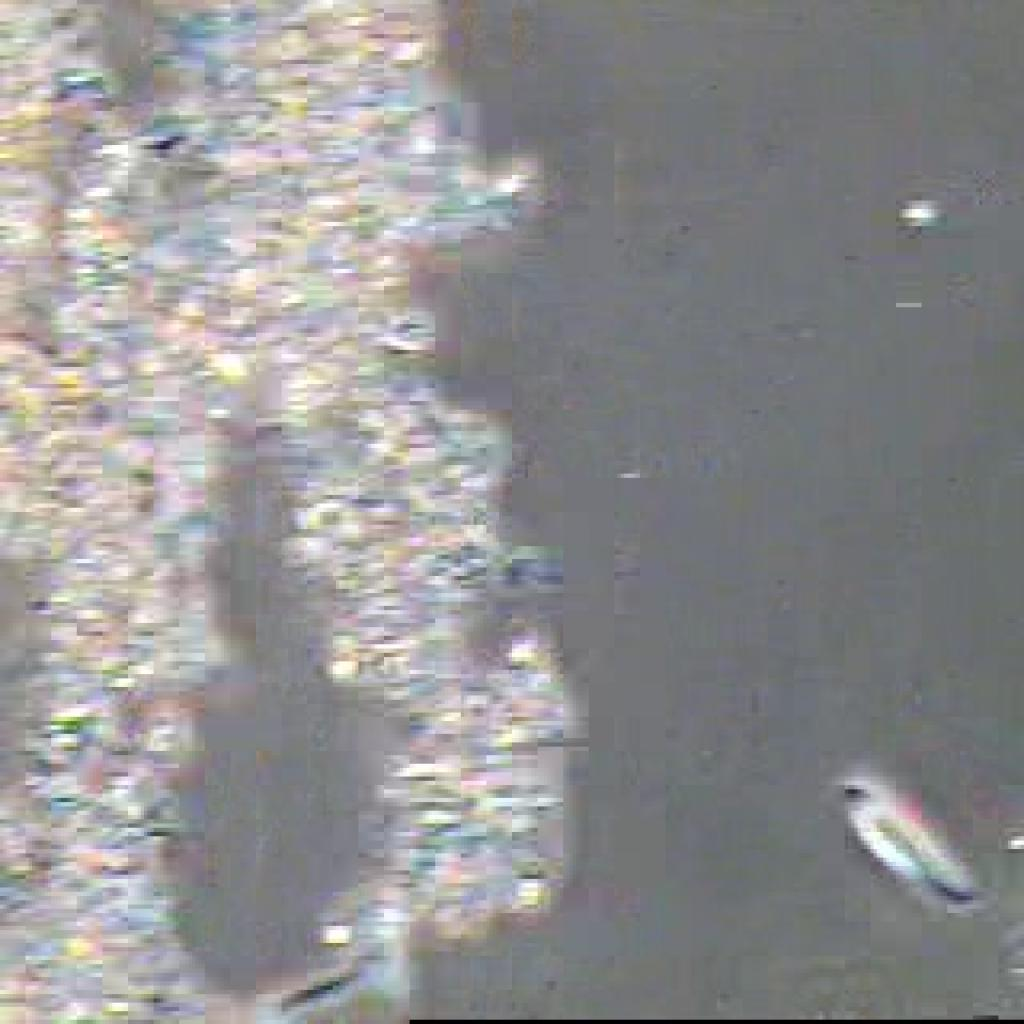Pristina: (814, 764, 988, 926)
